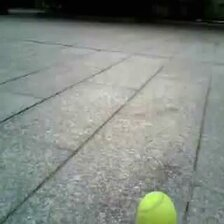tennis: (136, 192, 177, 224)
